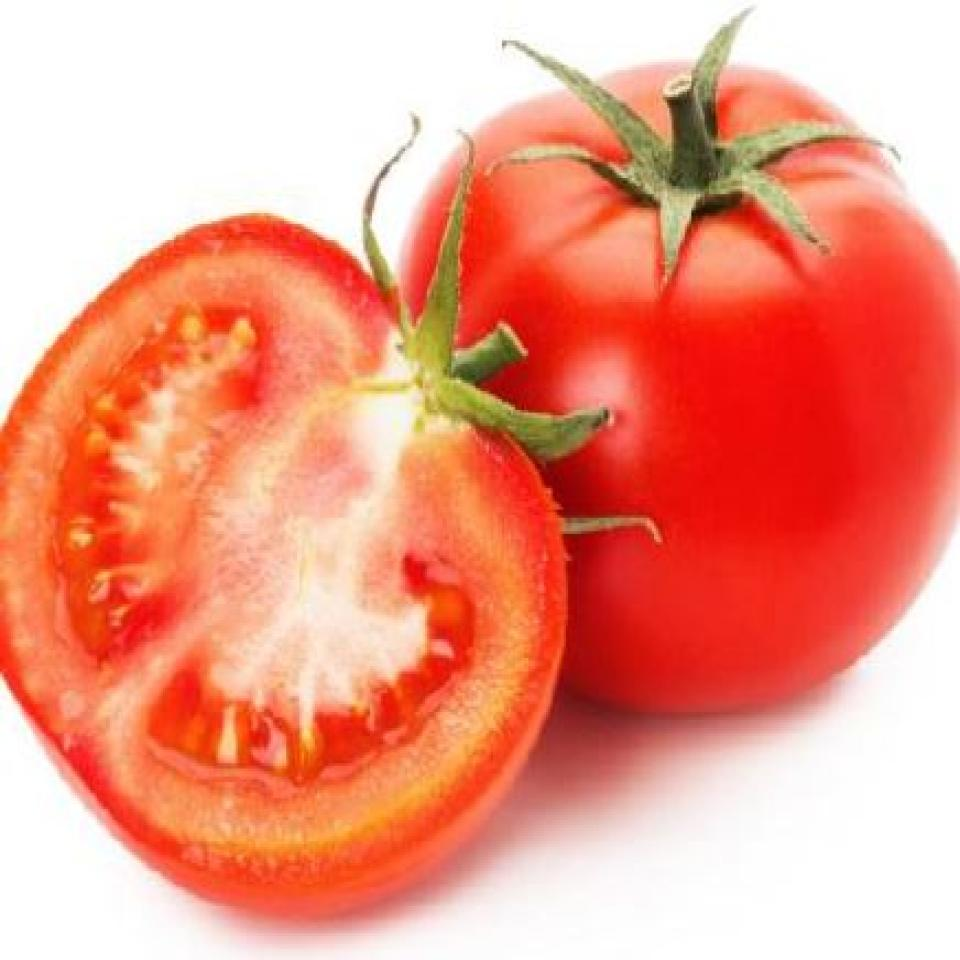Healthy: (428, 68, 960, 694)
